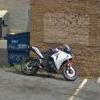Motorcycle: (19, 41, 80, 83)
